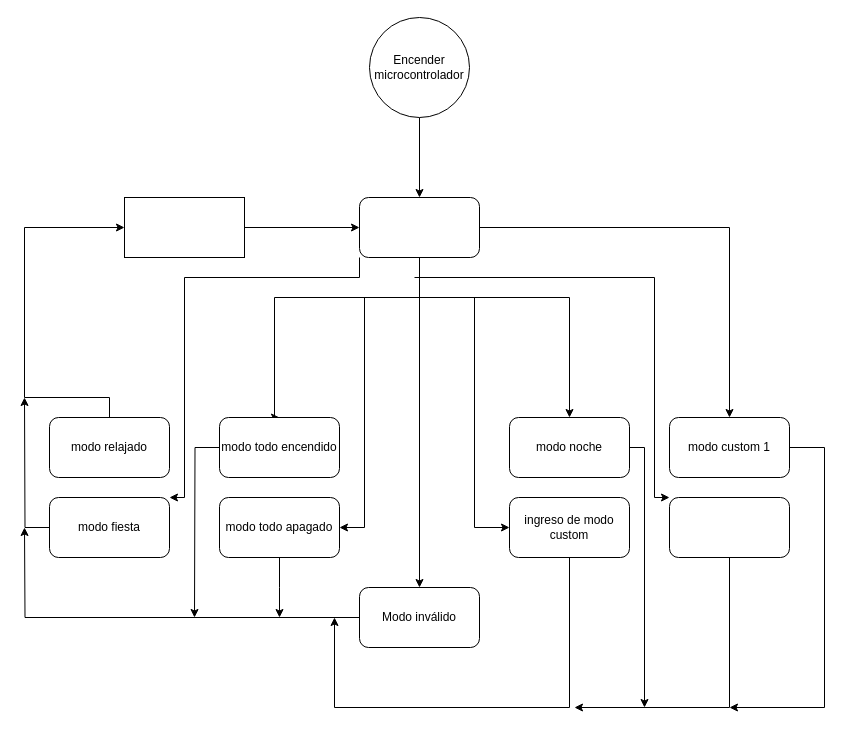
Some shapes in this 850 by 733 pixel diagram are drawn without their labels. Each missing label, with the centre of its shape:
"Guardar en memoria EEPROM" goes at [184,227].
"Input del sistema" goes at [419,227].
"modo custom 2" goes at [729,527].
